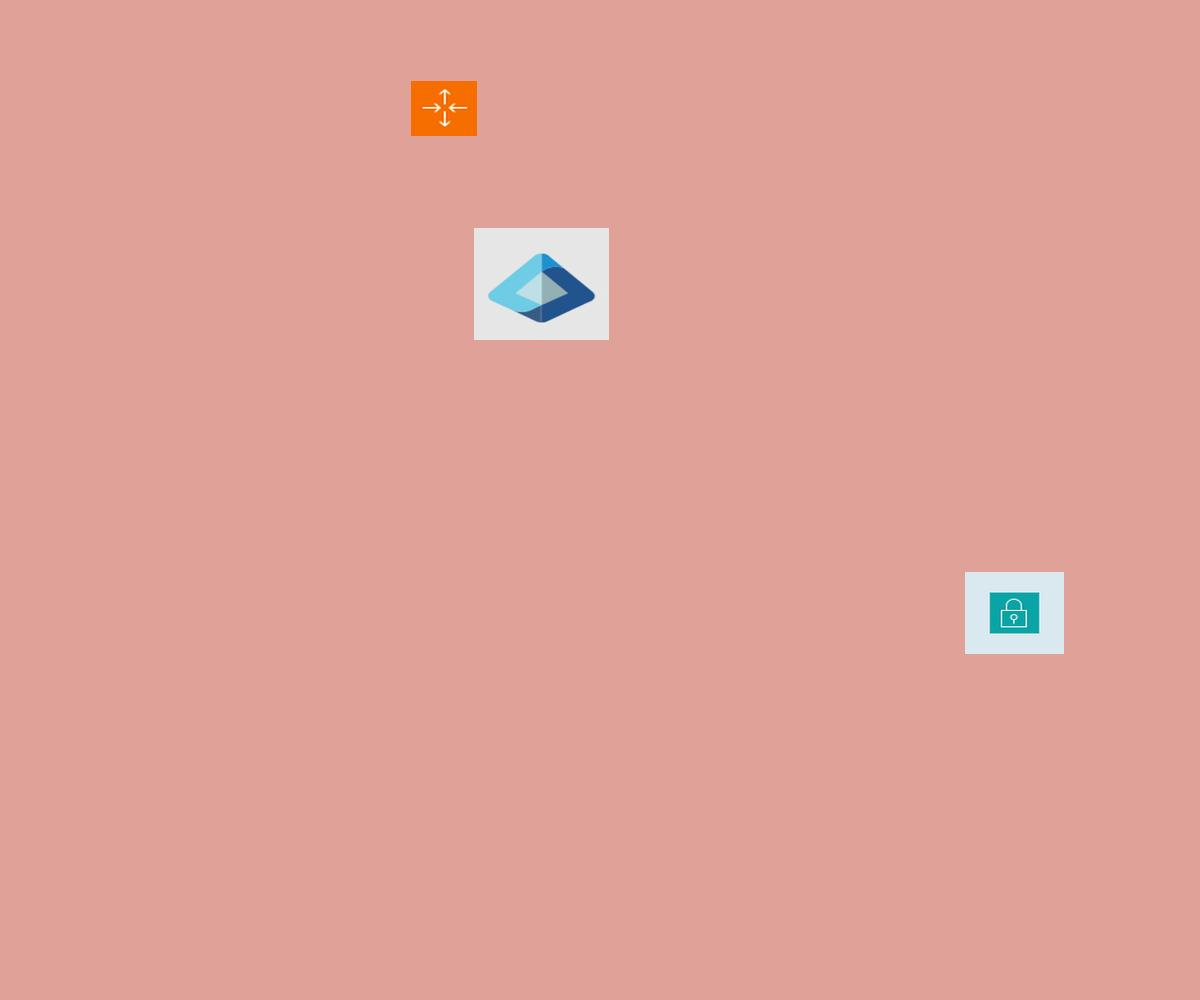AWS-Private-subnet: (965, 572, 1064, 654)
AWS-Scaling-group: (411, 81, 477, 136)
Azure_microsoft_entra: (474, 228, 609, 340)
